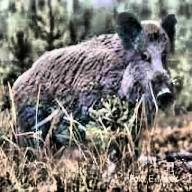boar: (9, 11, 179, 166)
